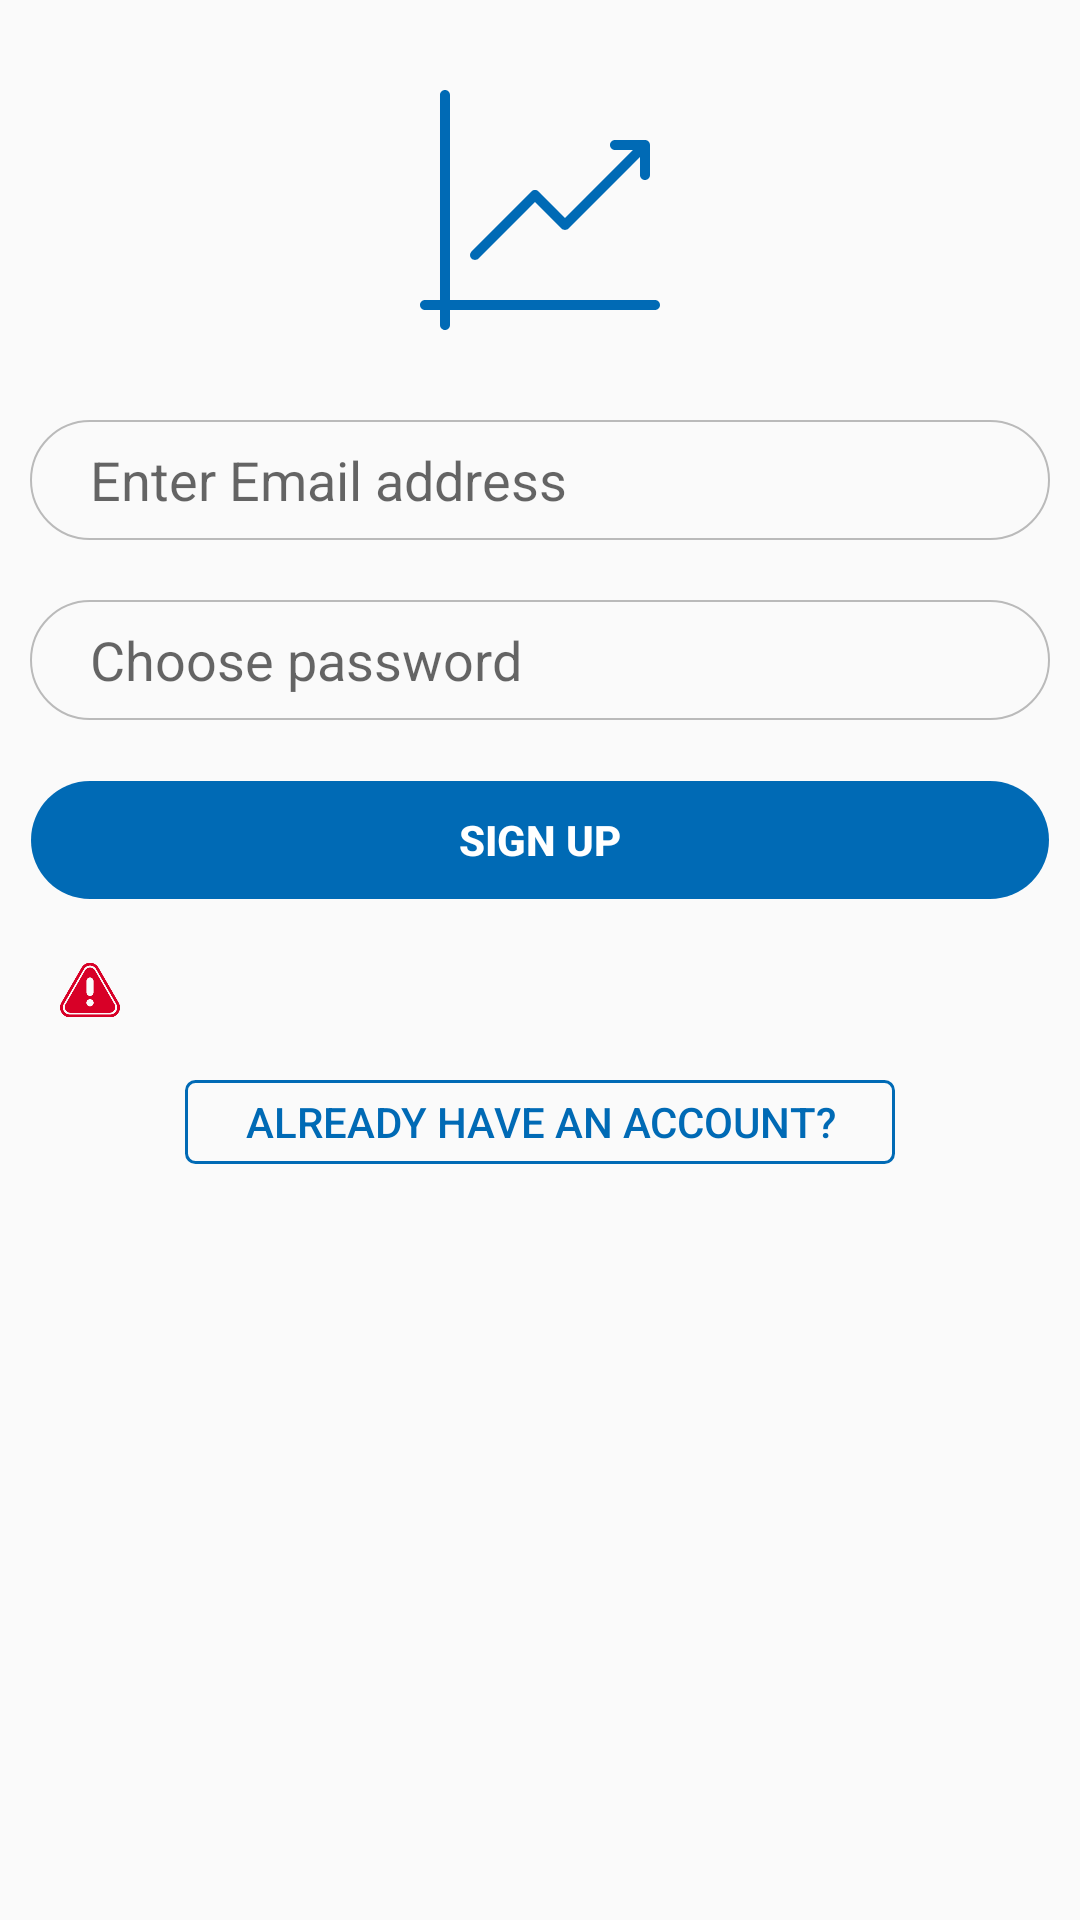

Icon bounding boxes for this 1080x1920 phone screenshot, format {"x1": x1, "y1": y1, "x2": x2, "y2": y2}:
arrow chart: {"x1": 420, "y1": 90, "x2": 660, "y2": 330}
danger sing: {"x1": 60, "y1": 963, "x2": 120, "y2": 1017}
